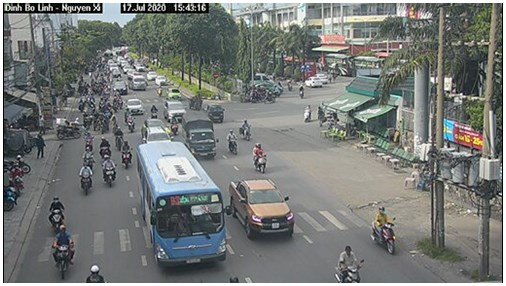xe_ban_tai: (228, 178, 293, 239)
xe_buyt: (136, 142, 228, 267)
xe_hoi: (163, 101, 187, 120)
xe_may: (49, 223, 78, 279), (368, 204, 398, 255), (45, 193, 66, 232), (101, 155, 119, 188), (79, 163, 93, 198), (251, 141, 266, 173), (119, 138, 133, 169), (98, 135, 113, 159), (81, 144, 94, 168), (228, 127, 238, 156), (241, 118, 253, 140), (84, 129, 95, 152), (125, 112, 136, 134), (169, 115, 178, 136)
xe_tai: (180, 111, 217, 160)
